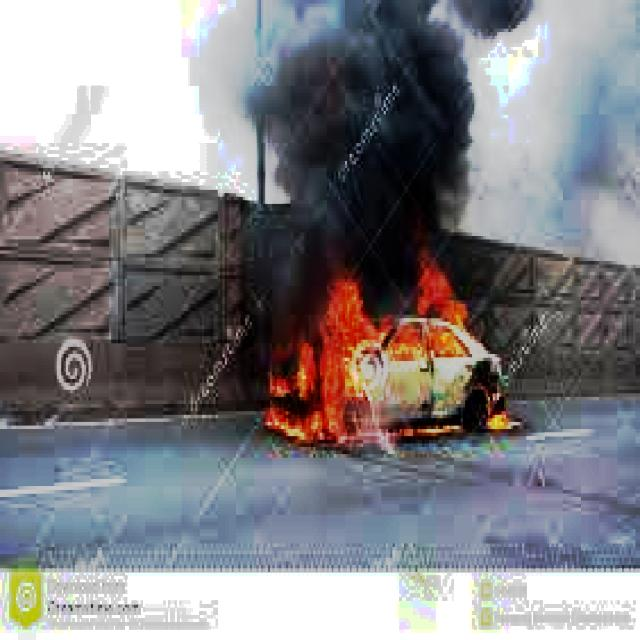api: (269, 234, 521, 480)
